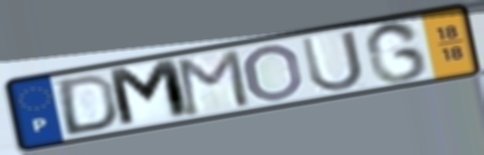D: (56, 72, 120, 138)
G: (362, 19, 432, 85)
M: (103, 56, 195, 131), (175, 47, 254, 119)
O: (242, 43, 307, 104)
U: (297, 27, 367, 95)
